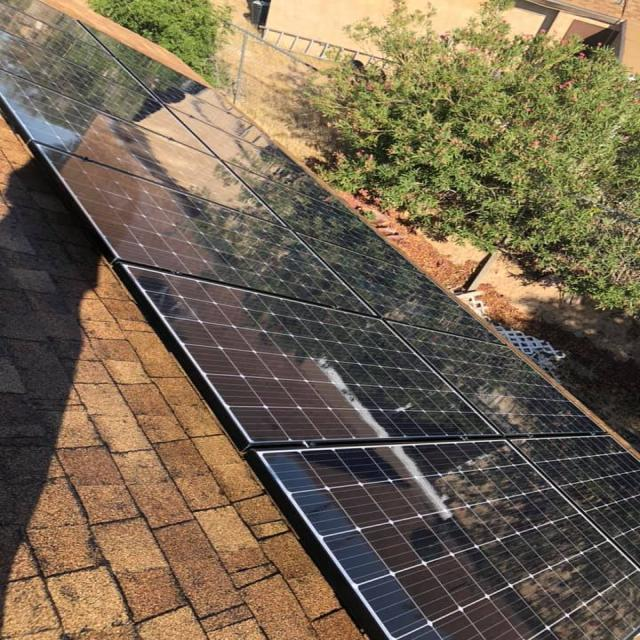clean-solar-panel: (3, 0, 637, 640)
